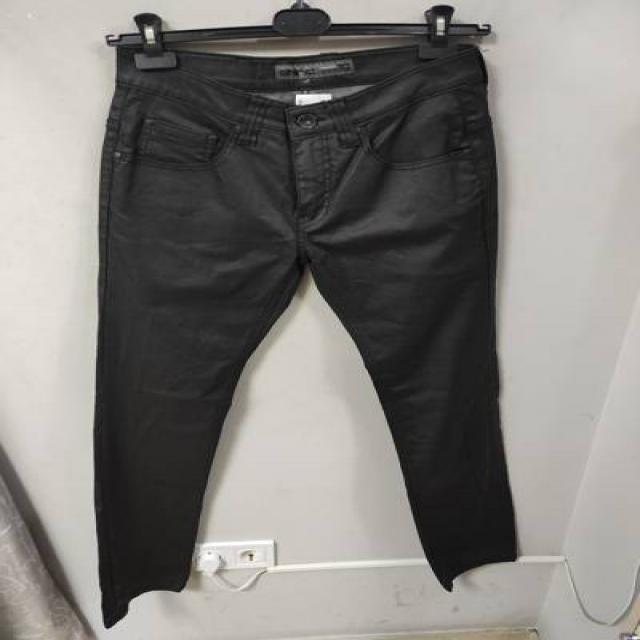Clothes -Biodegradable-: (96, 41, 516, 626)
